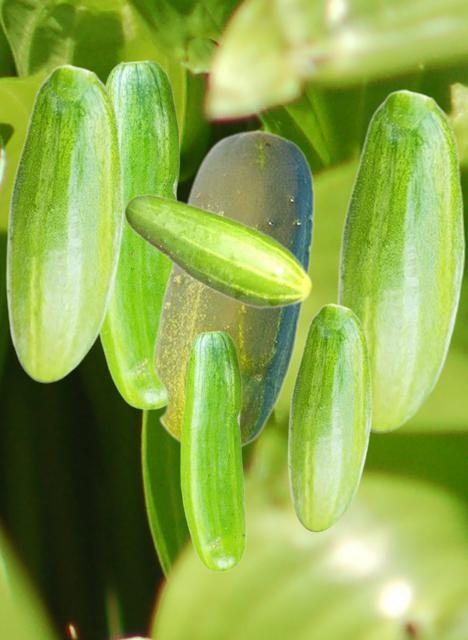cucumber: (151, 129, 313, 448), (336, 89, 464, 432), (5, 64, 123, 382), (99, 59, 180, 409), (124, 193, 312, 309), (287, 303, 371, 531), (180, 330, 245, 571)
